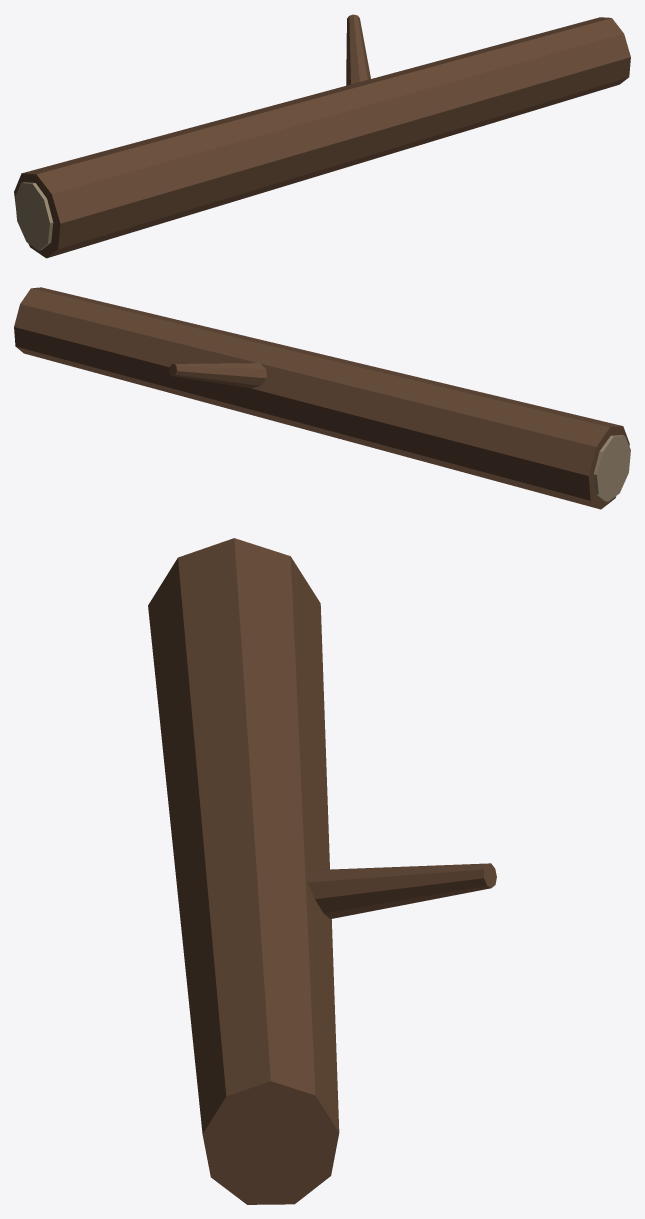
The model's file is fallen_cedar.glb.
3 renders of one model, top to bottom at view 1: azimuth 30°, elevation 25°; view 2: azimuth 150°, elevation 25°; view 3: azimuth 270°, elevation 25°, orthographic. The views are drawn at different scales.
Parts seen in each view (by area): view 1: fallen_cedar.003; view 2: fallen_cedar.003; view 3: fallen_cedar.003.
Part boxes in pixels (box(x1,y1,x2,y2)): fallen_cedar.003: box(14, 14, 630, 258); fallen_cedar.003: box(14, 287, 630, 509); fallen_cedar.003: box(148, 538, 496, 1204).
Size of the model in its own units: 3.64 by 0.5788 by 0.9546.
